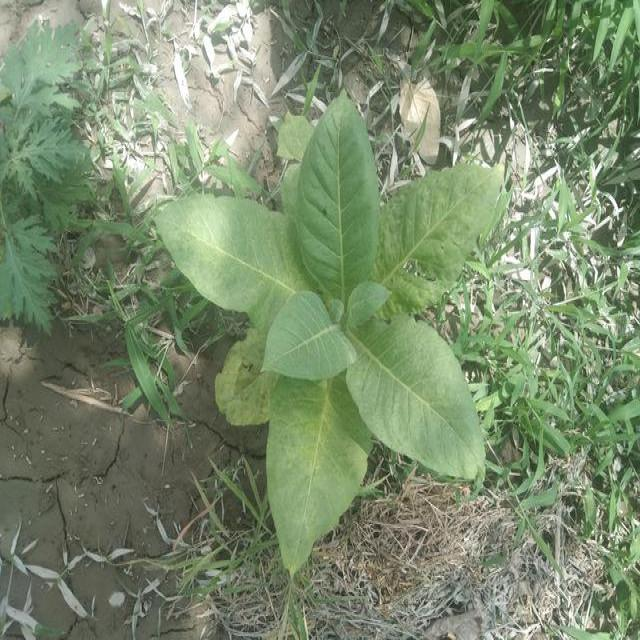crop: (162, 95, 507, 568)
